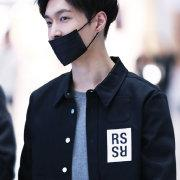WRONG: (47, 8, 101, 62)
